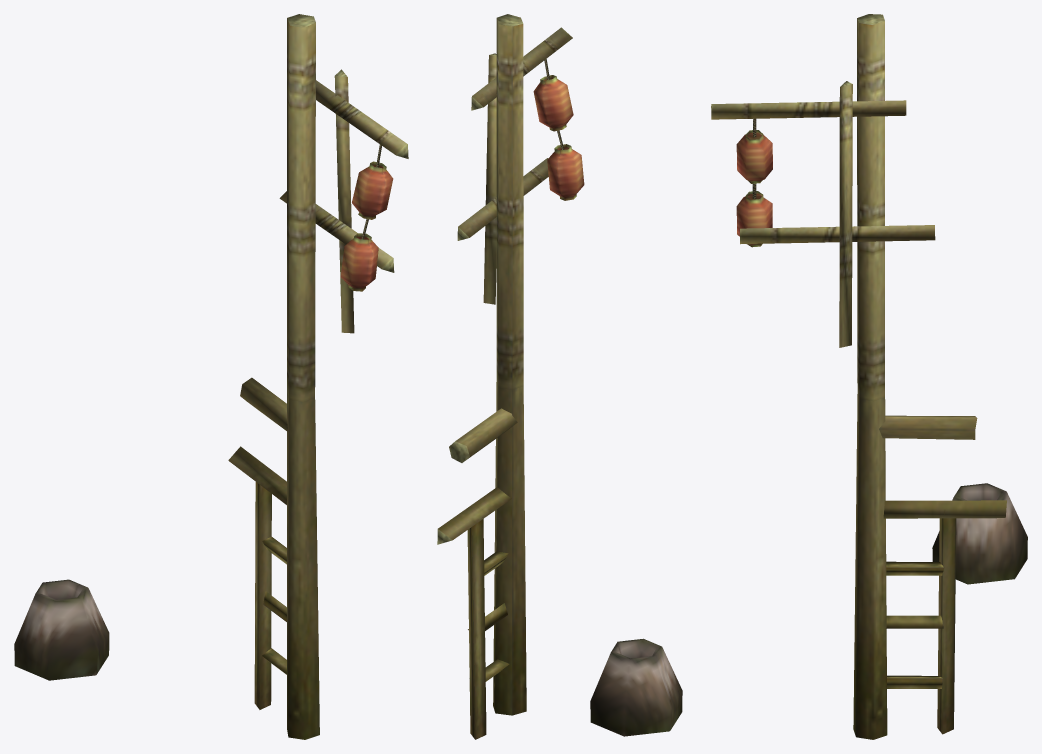
File: JJS_QY_DengLongGuanZi.FBX
The picture shows the model from 3 angles, left to right: view 1: azimuth 30°, elevation 25°; view 2: azimuth 150°, elevation 25°; view 3: azimuth 270°, elevation 25°; orthographic projection. The views are drawn at different scales.
Parts seen in each view (by area): view 1: JJS_QY_DengLong, JJS_QY_GuanZi; view 2: JJS_QY_DengLong, JJS_QY_GuanZi; view 3: JJS_QY_DengLong, JJS_QY_GuanZi.
Boxes of the visible parts, <box> form: JJS_QY_DengLong: <box>228,14,408,739</box>; JJS_QY_GuanZi: <box>14,579,109,680</box>; JJS_QY_DengLong: <box>437,14,584,739</box>; JJS_QY_GuanZi: <box>590,638,682,736</box>; JJS_QY_DengLong: <box>711,14,1006,739</box>; JJS_QY_GuanZi: <box>932,483,1027,584</box>.
Size of the model in its own units: 146 by 377 by 152.
